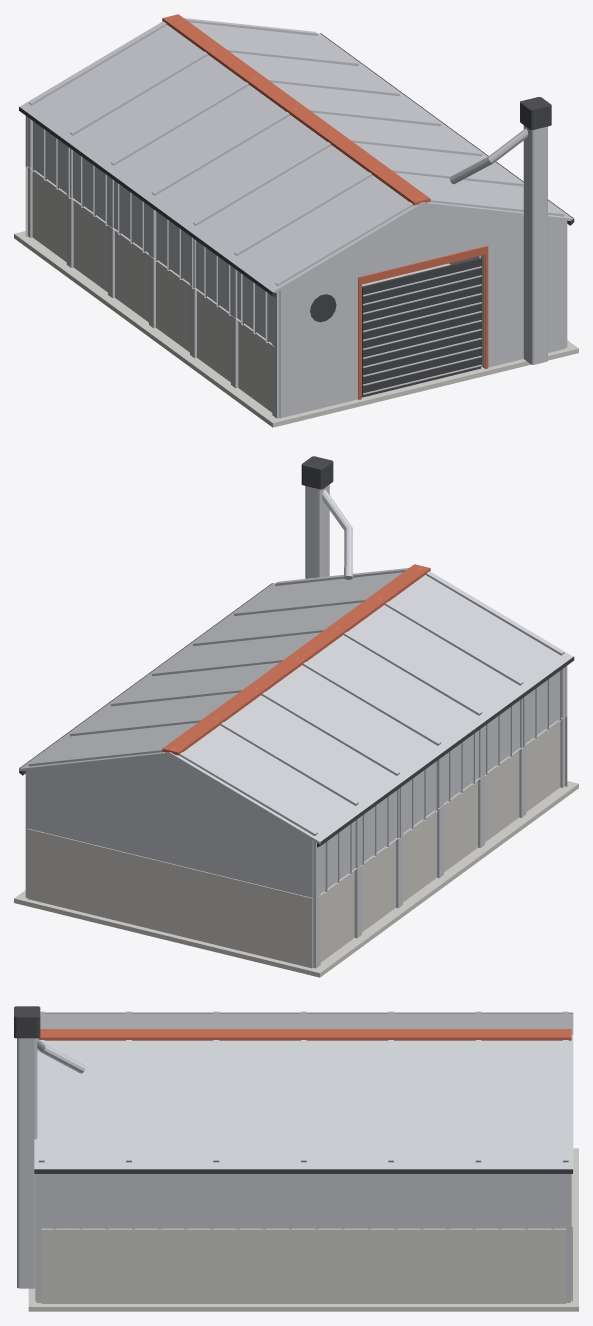
Rendered from arable-fields-and-farm-machinery-grain-store-shed-0303bd0a__16887.glb.
The picture shows the model from 3 angles, top to bottom: view 1: azimuth 30°, elevation 25°; view 2: azimuth 150°, elevation 25°; view 3: azimuth 270°, elevation 25°; orthographic projection. The views are drawn at different scales.
Parts seen in each view (by area): view 1: grain-store-shed; view 2: grain-store-shed; view 3: grain-store-shed.
Part boxes in pixels (x1,y1,x2,y2): grain-store-shed: (14, 14, 578, 427); grain-store-shed: (14, 456, 578, 977); grain-store-shed: (14, 1006, 578, 1311).
Bounding box in the file's own units: 12.9 × 10.5 × 19.4.
